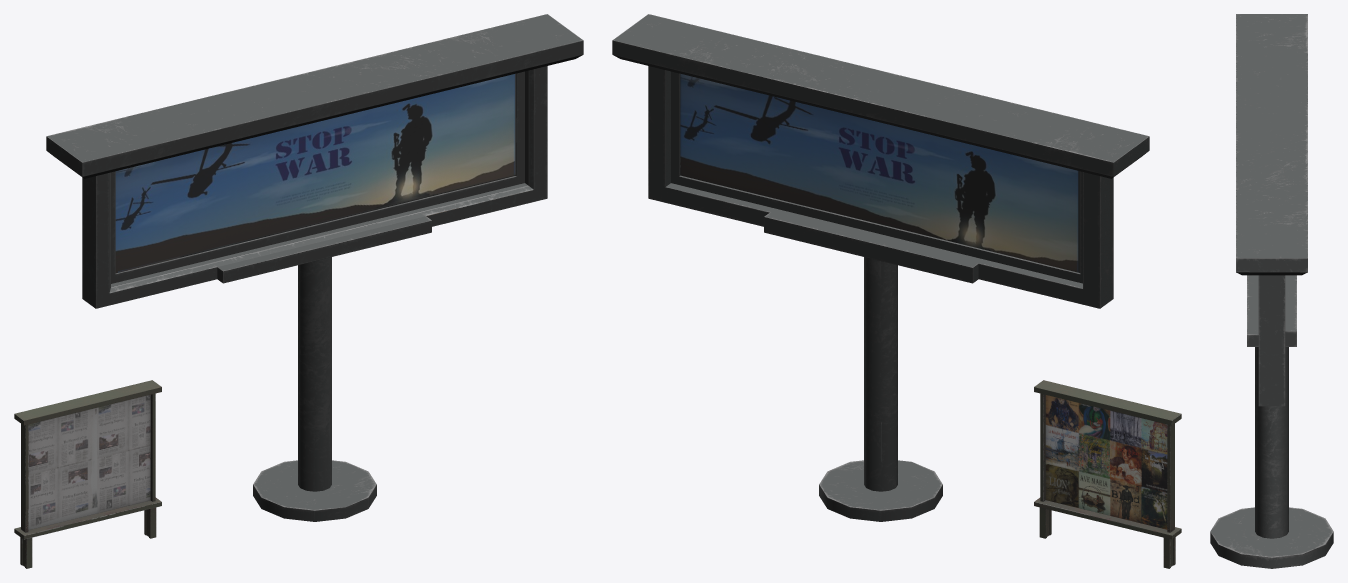
The model's file is bien quang cao .fbx.
3 views of the same model, side by side, from view 1: azimuth 30°, elevation 25°; view 2: azimuth 150°, elevation 25°; view 3: azimuth 270°, elevation 25° (orthographic).
Parts seen in each view (by area): view 1: pPlane3, polySurface5, polySurface3, polySurface4; view 2: pPlane3, polySurface5, polySurface3, polySurface4; view 3: pPlane3.
Boxes of the visible parts, x1=… form: pPlane3: x1=46, y1=14, x2=583, y2=521; polySurface5: x1=111, y1=71, x2=524, y2=283; polySurface3: x1=28, y1=395, x2=150, y2=529; polySurface4: x1=14, y1=380, x2=161, y2=568; pPlane3: x1=612, y1=14, x2=1149, y2=521; polySurface5: x1=671, y1=71, x2=1082, y2=283; polySurface3: x1=1045, y1=395, x2=1167, y2=529; polySurface4: x1=1034, y1=380, x2=1181, y2=568; pPlane3: x1=1210, y1=14, x2=1333, y2=568.
Size of the model in its own units: 13.21 by 9.42 by 2.59.
Materials: 1 (1 with a texture image).
